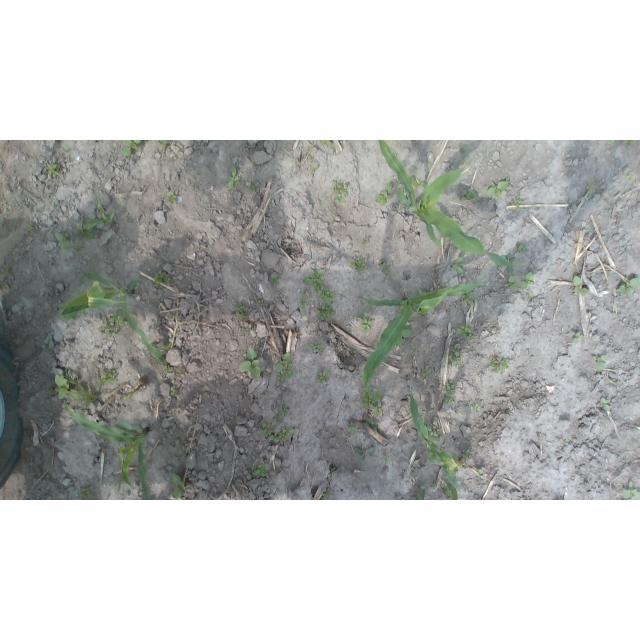Maize: (377, 141, 527, 272), (362, 276, 486, 389), (56, 273, 167, 367), (65, 399, 153, 500), (410, 392, 463, 500)
Weeds: (55, 371, 96, 410), (83, 196, 115, 229), (240, 348, 263, 381), (71, 224, 95, 250), (486, 178, 510, 201), (276, 354, 295, 383), (172, 473, 191, 499), (303, 269, 325, 291), (375, 183, 395, 206), (361, 388, 381, 409), (268, 428, 296, 443), (617, 277, 639, 296), (357, 310, 374, 333), (332, 181, 348, 204), (443, 381, 458, 405), (122, 140, 143, 157), (226, 166, 240, 191), (572, 276, 589, 296), (456, 324, 476, 341), (102, 319, 119, 339), (354, 446, 375, 462), (622, 481, 640, 499), (393, 329, 411, 347), (448, 344, 462, 367), (316, 286, 337, 301), (154, 270, 171, 288), (434, 481, 452, 498), (318, 304, 335, 321), (592, 354, 608, 372), (491, 358, 510, 373), (100, 370, 117, 386), (519, 271, 534, 289), (350, 257, 369, 271), (508, 194, 524, 210), (56, 233, 71, 250), (461, 187, 478, 202), (79, 485, 97, 499), (451, 257, 465, 274), (114, 309, 127, 327), (505, 274, 518, 291), (236, 301, 248, 319), (597, 398, 612, 412), (152, 319, 167, 333), (254, 463, 267, 478), (316, 368, 328, 384), (506, 253, 516, 272), (426, 426, 440, 439), (364, 419, 377, 433), (462, 291, 475, 305), (47, 163, 61, 176), (379, 258, 392, 272), (466, 400, 481, 412), (410, 177, 426, 188), (165, 192, 178, 205), (298, 294, 311, 307), (347, 422, 359, 436), (415, 485, 426, 500), (308, 342, 324, 352), (261, 423, 273, 436), (572, 331, 584, 343), (270, 275, 280, 288), (516, 244, 528, 253), (462, 450, 471, 461), (423, 367, 432, 378), (607, 378, 618, 387), (248, 181, 257, 191), (124, 392, 135, 400), (322, 491, 331, 500), (47, 387, 56, 396), (374, 406, 383, 415), (476, 468, 485, 477), (311, 164, 319, 174), (159, 140, 169, 148), (587, 183, 594, 194), (246, 324, 253, 335), (27, 224, 35, 233), (321, 141, 331, 148), (282, 405, 289, 415), (171, 387, 178, 397), (165, 342, 173, 350), (178, 367, 186, 375), (165, 366, 174, 373), (5, 266, 12, 275), (100, 357, 109, 364), (624, 141, 636, 146), (460, 146, 467, 154), (606, 140, 616, 145), (627, 174, 634, 181), (383, 456, 390, 463), (526, 293, 533, 300), (561, 438, 569, 444), (327, 427, 334, 433), (308, 155, 314, 162), (363, 238, 369, 244), (258, 300, 264, 306), (504, 414, 510, 419)
